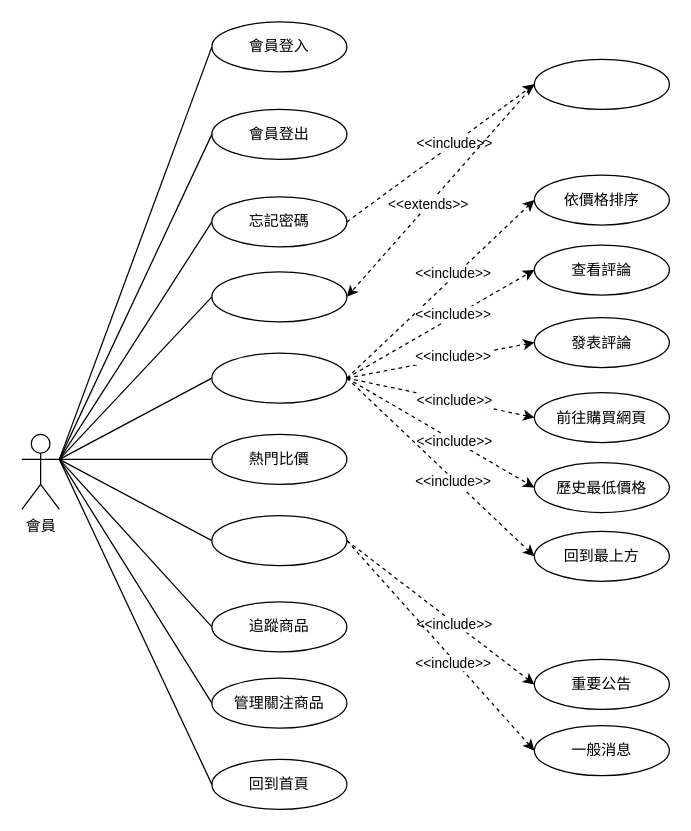
Some shapes in this 691 by 831 pixel diagram are drawn without their labels. Here are the shapes that lost their labels. From the top down, the box of each, then its label:
(533, 58, 669, 109): 更改密碼
(211, 271, 347, 322): 管理會員資料
(211, 352, 347, 403): 商品比價
(211, 514, 347, 566): 最新消息
